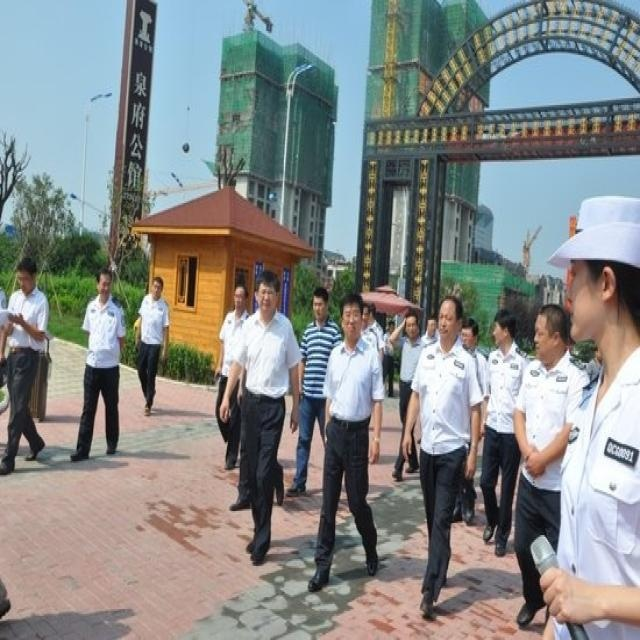Sin_Casco_Mascarrilla: (437, 293, 463, 343), (255, 270, 281, 318)
